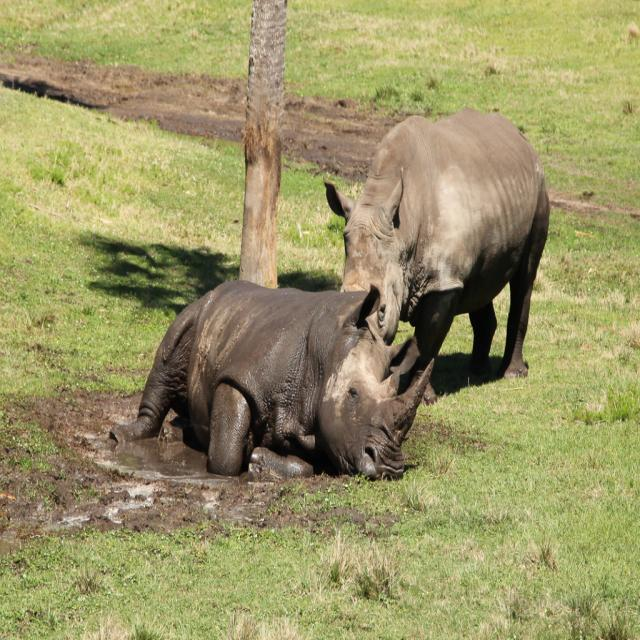rhino: (323, 71, 591, 396), (118, 266, 442, 500)
